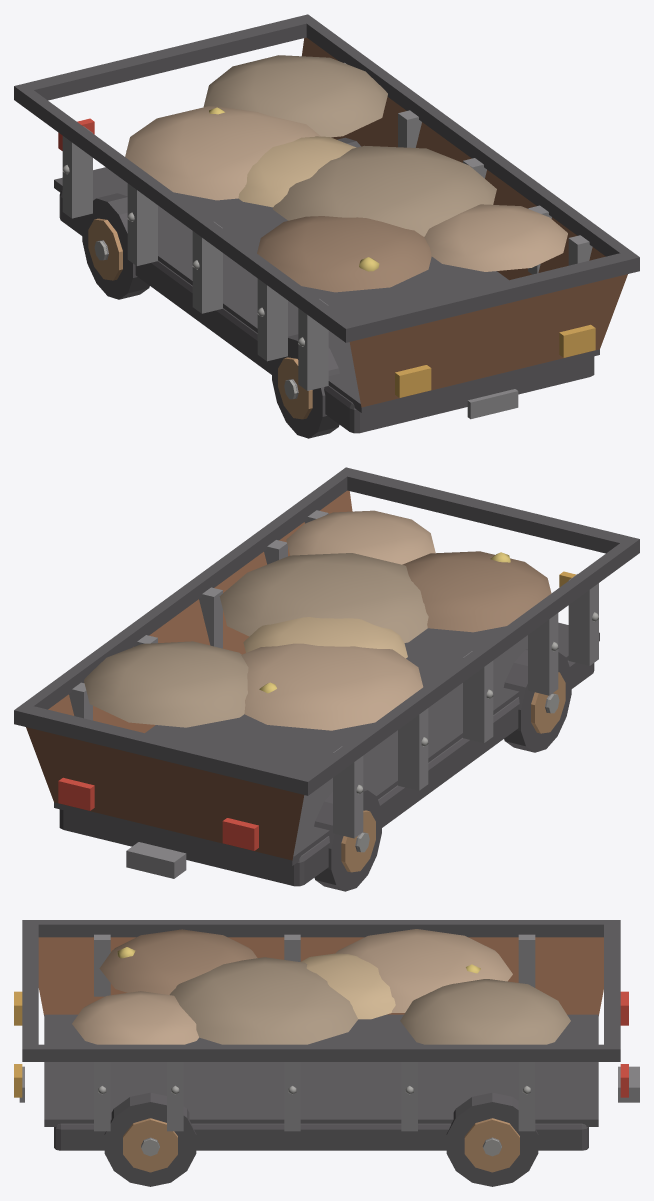
File: rn2-canion-car.glb
3 views of the same model, one above another, from view 1: azimuth 30°, elevation 25°; view 2: azimuth 150°, elevation 25°; view 3: azimuth 270°, elevation 25° (orthographic). The views are drawn at different scales.
Parts seen in each view (by area): view 1: rn2_canion_car_body, rn2_canion_car_glow; view 2: rn2_canion_car_body, rn2_canion_car_glow; view 3: rn2_canion_car_body, rn2_canion_car_glow.
Boxes of the visible parts, box(x1,y1,x2,y2) form: rn2_canion_car_body: box(14, 14, 639, 438); rn2_canion_car_glow: box(58, 107, 595, 397); rn2_canion_car_body: box(14, 467, 639, 891); rn2_canion_car_glow: box(58, 552, 576, 850); rn2_canion_car_body: box(19, 920, 639, 1186); rn2_canion_car_glow: box(14, 947, 628, 1097).
Size of the model in its own units: 2.26 by 1.28 by 4.54.
